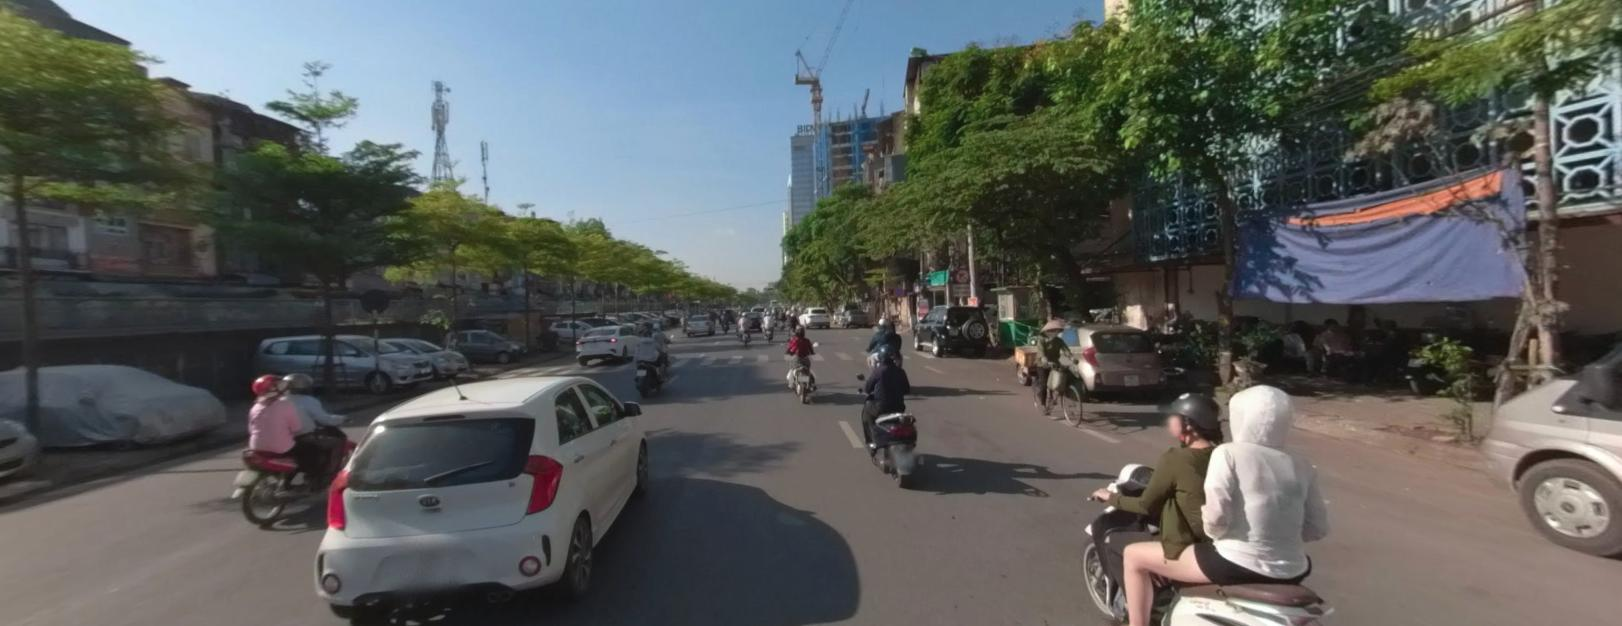Hieu lenh: (808, 305, 986, 413)
